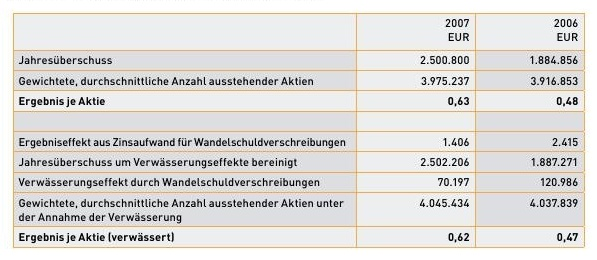table: (0, 0, 597, 260)
